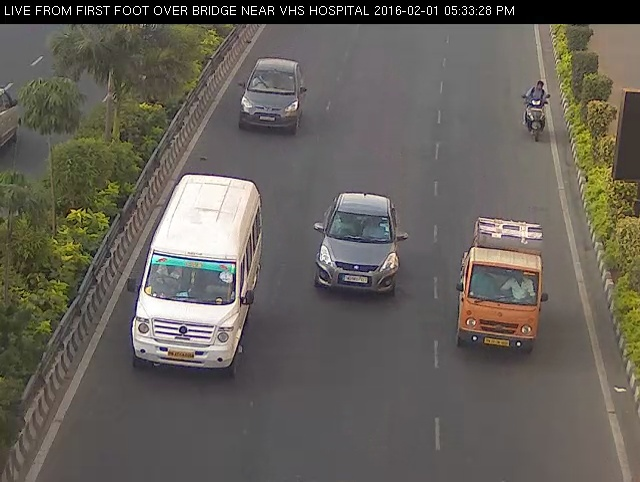Auto: (451, 209, 553, 362)
Bus: (120, 155, 272, 396)
Car: (310, 181, 408, 311), (232, 52, 313, 141)
Person: (512, 73, 557, 150)
